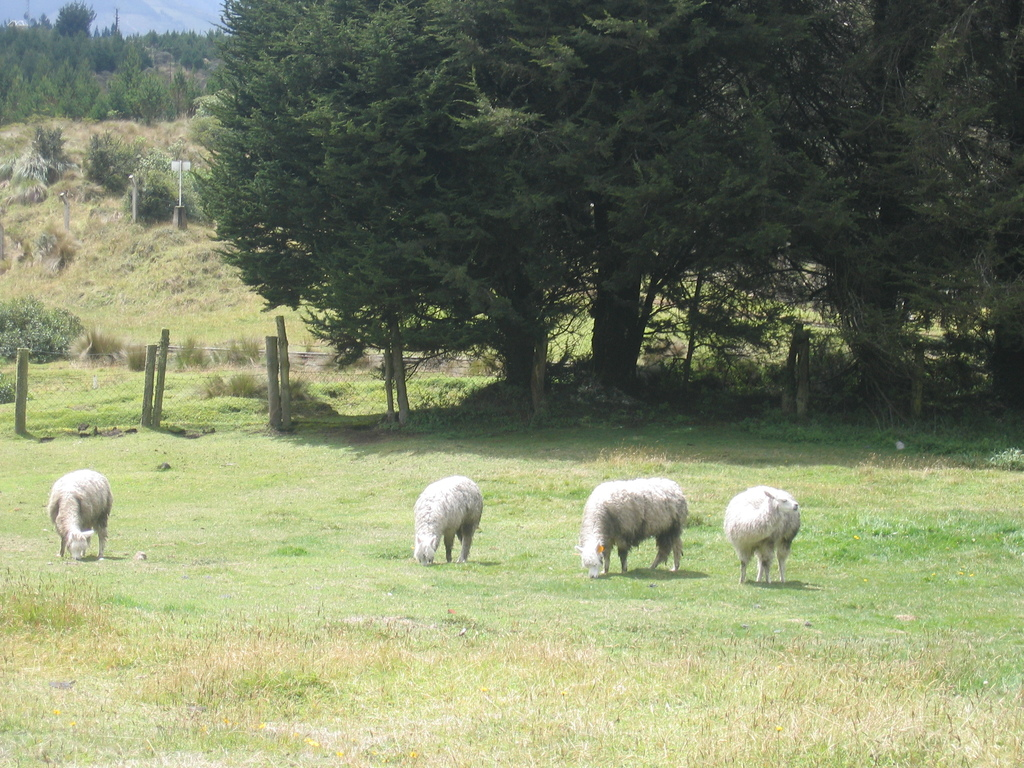sheep: (577, 478, 688, 574), (722, 485, 801, 585), (413, 471, 487, 563), (46, 465, 114, 556)
